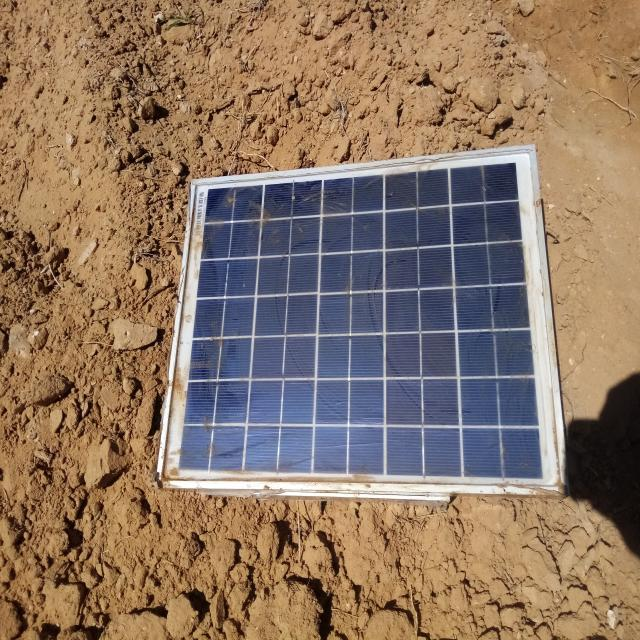faulty: (156, 148, 565, 489)
